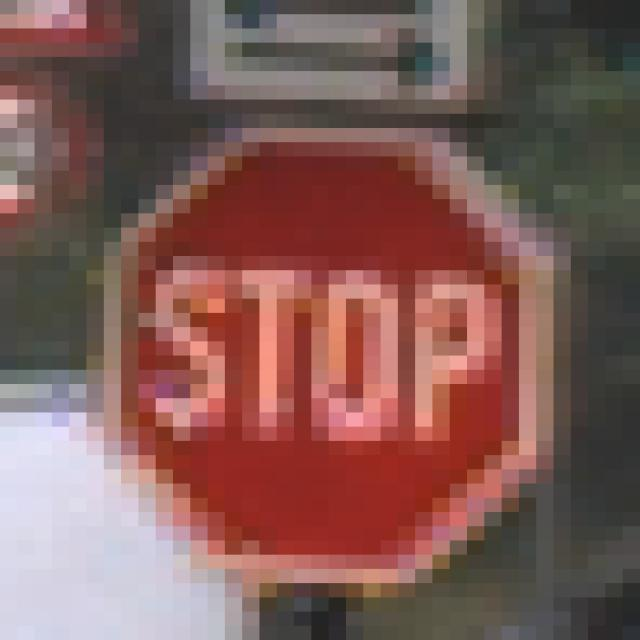STOP: (88, 86, 555, 570)
